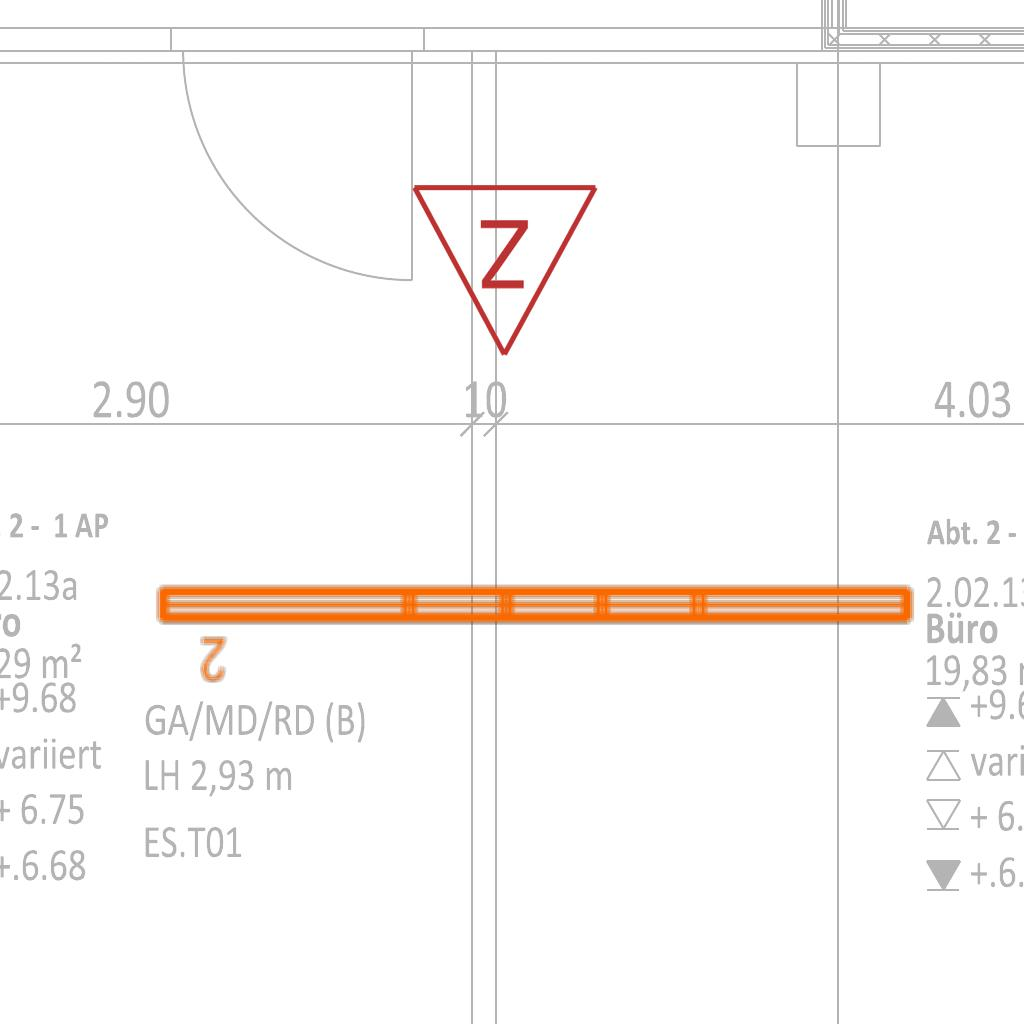Ambulanz_Pendelleuchte_LED: (149, 574, 923, 686)
Zimmersignalleuchte: (409, 170, 605, 370)
